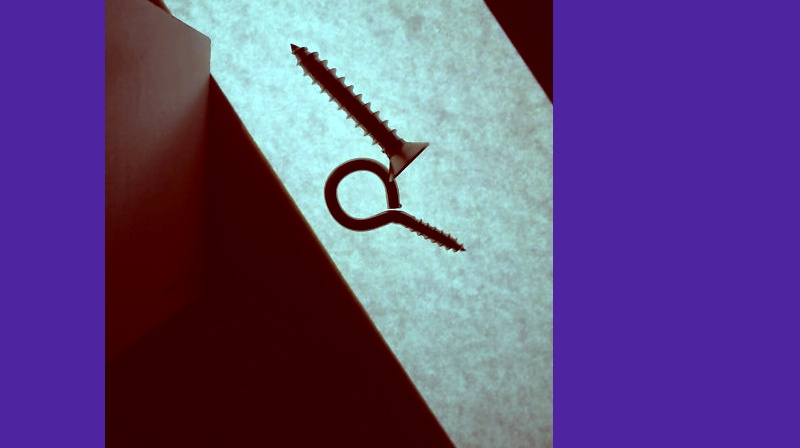O001: (320, 154, 470, 254)
S001: (291, 38, 428, 178)
